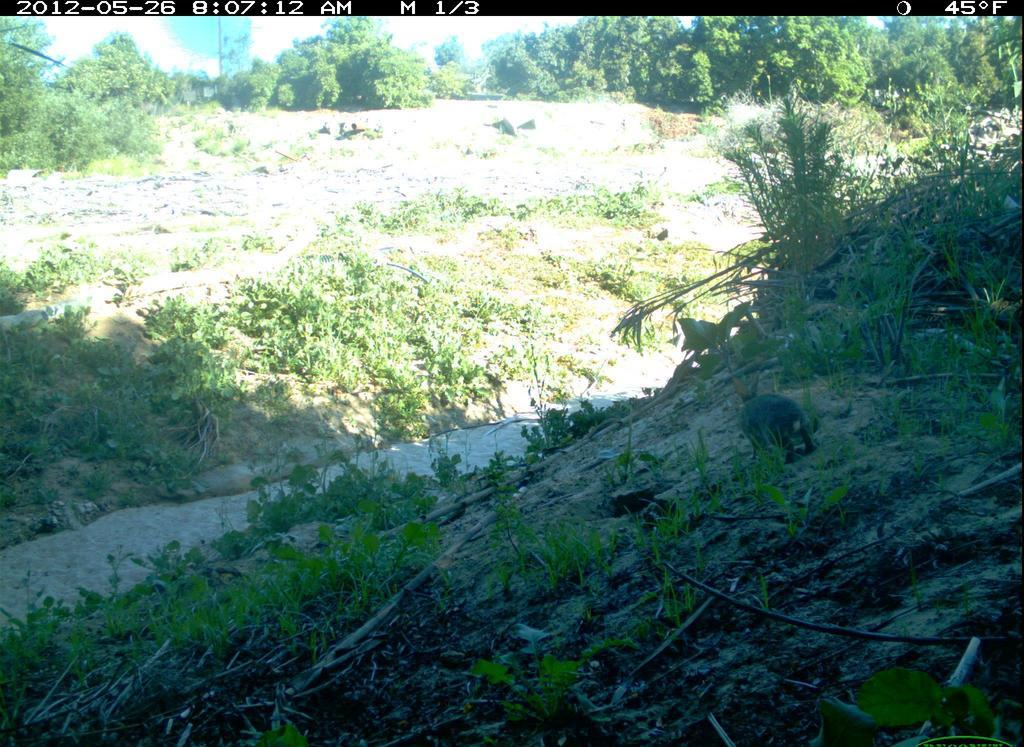rabbit: (728, 373, 827, 464)
